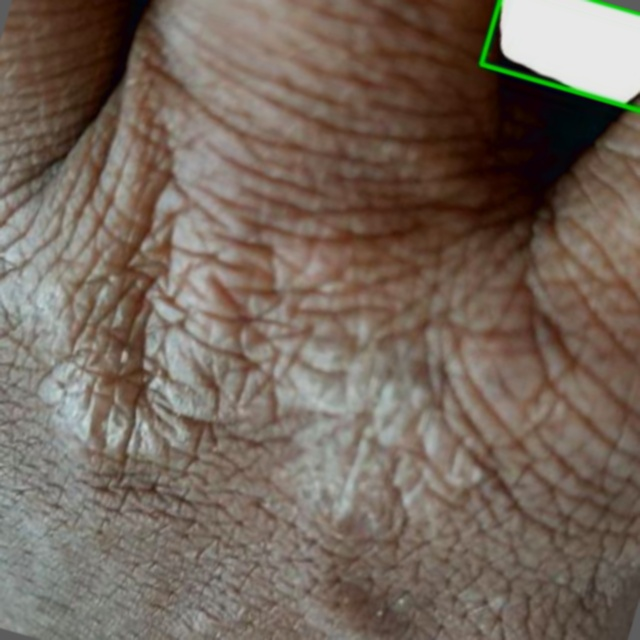Contact Dermatitis: (481, 0, 639, 110)
